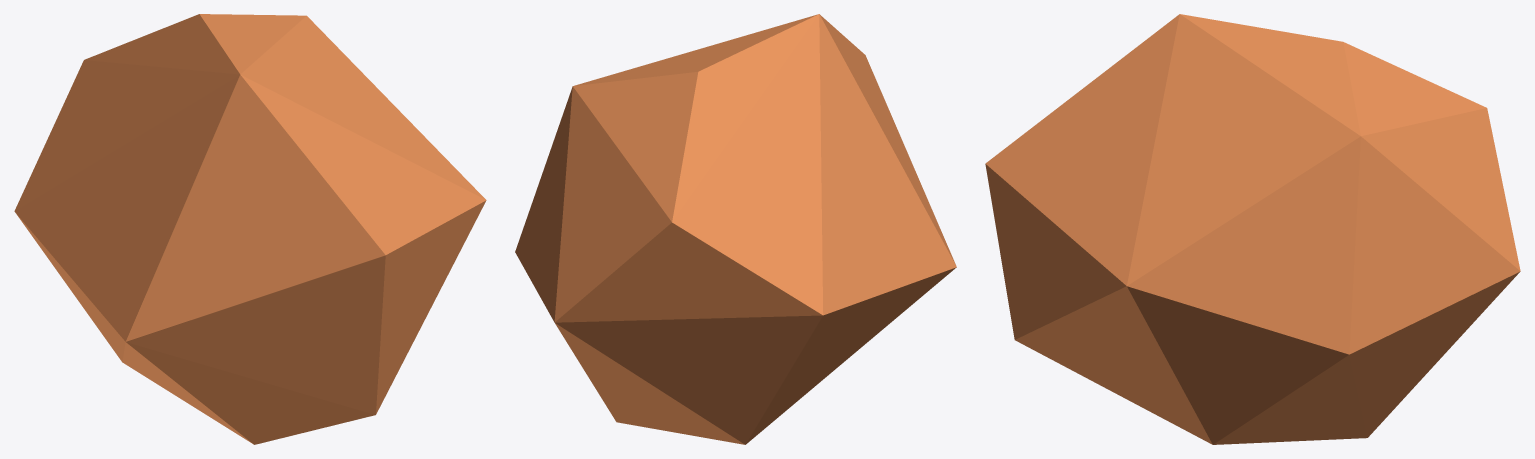
Rendered from seed_beetroot.fbx.
3 views of the same model, side by side, from view 1: azimuth 30°, elevation 25°; view 2: azimuth 150°, elevation 25°; view 3: azimuth 270°, elevation 25° (orthographic).
Visible parts, largest first — view 1: Seed_Beetroot; view 2: Seed_Beetroot; view 3: Seed_Beetroot.
Part boxes in pixels (x1,y1,x2,y2): Seed_Beetroot: (14, 14, 486, 444); Seed_Beetroot: (515, 14, 956, 444); Seed_Beetroot: (985, 14, 1520, 444).
Bounding box in the file's own units: 115 × 118 × 151.
